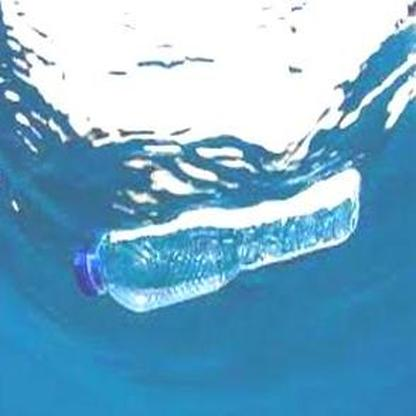plastic bottle: (72, 168, 362, 313)
